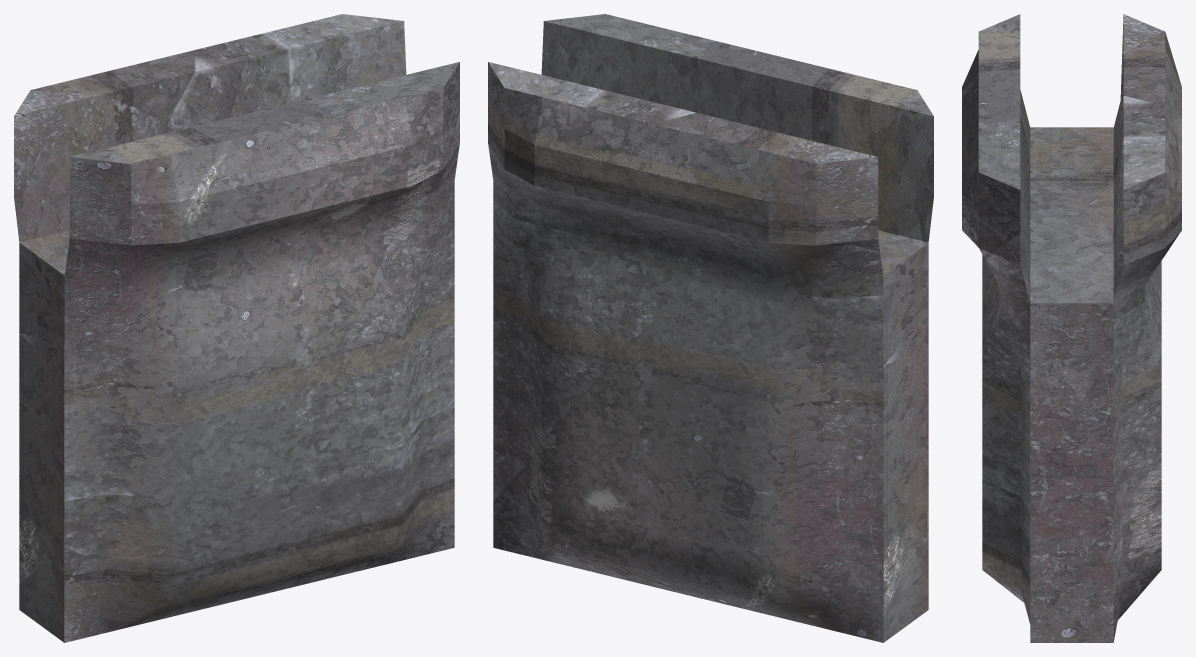
File: MetalWall.FBX
3 views of the same model, side by side, from view 1: azimuth 30°, elevation 25°; view 2: azimuth 150°, elevation 25°; view 3: azimuth 270°, elevation 25° (orthographic). The views are drawn at different scales.
Visible parts, largest first — view 1: MetalWall001; view 2: MetalWall001; view 3: MetalWall001.
Part boxes in pixels (x1,y1,x2,y2): MetalWall001: (14, 14, 459, 642); MetalWall001: (488, 14, 933, 642); MetalWall001: (962, 14, 1181, 642).
Size of the model in its own units: 100 by 120 by 52.8.
Materials: 1 (1 with a texture image).
